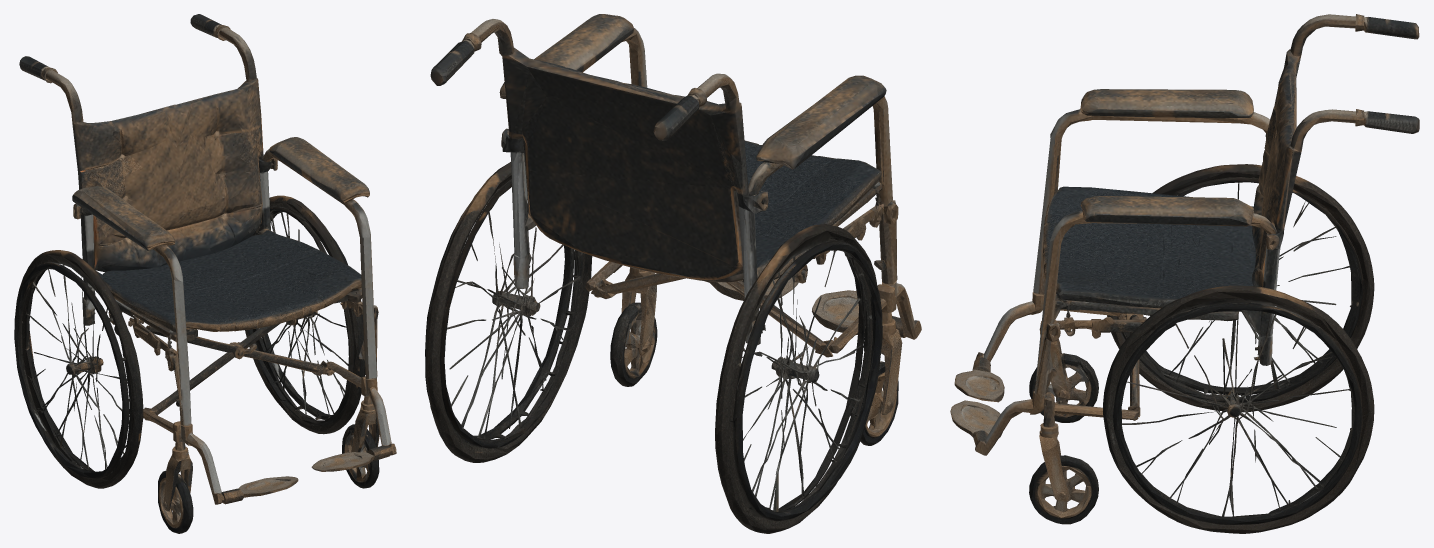
File: sedia_rotelle_N.glb
3 renders of one model, left to right at view 1: azimuth 30°, elevation 25°; view 2: azimuth 150°, elevation 25°; view 3: azimuth 270°, elevation 25°, orthographic. The views are drawn at different scales.
Size of the model in its own units: 1.3 by 1.83 by 1.9.
Materials: 1 (1 with a texture image).
